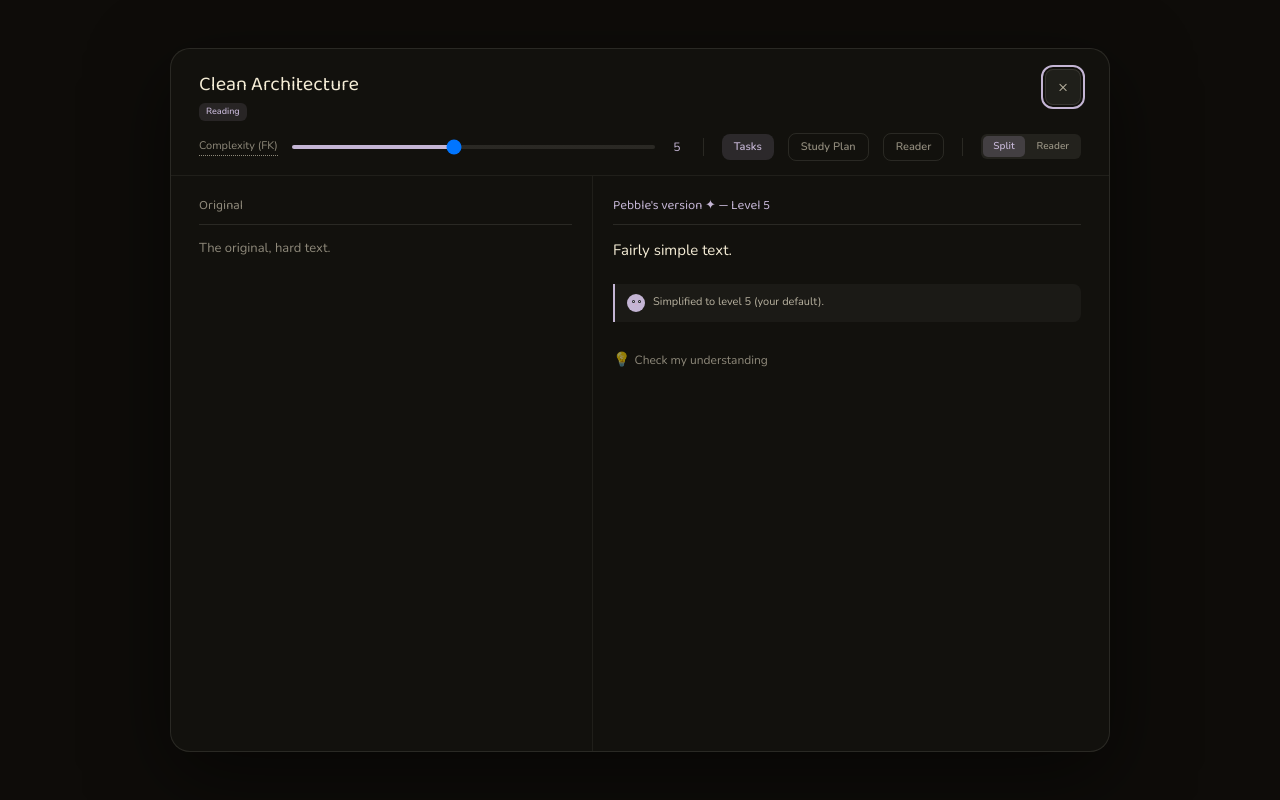
Scenario: DocumentModal › runs the comprehension check
Step 1. Click the button "💡 Check my understanding" → (690, 360), box [613, 338, 768, 382]
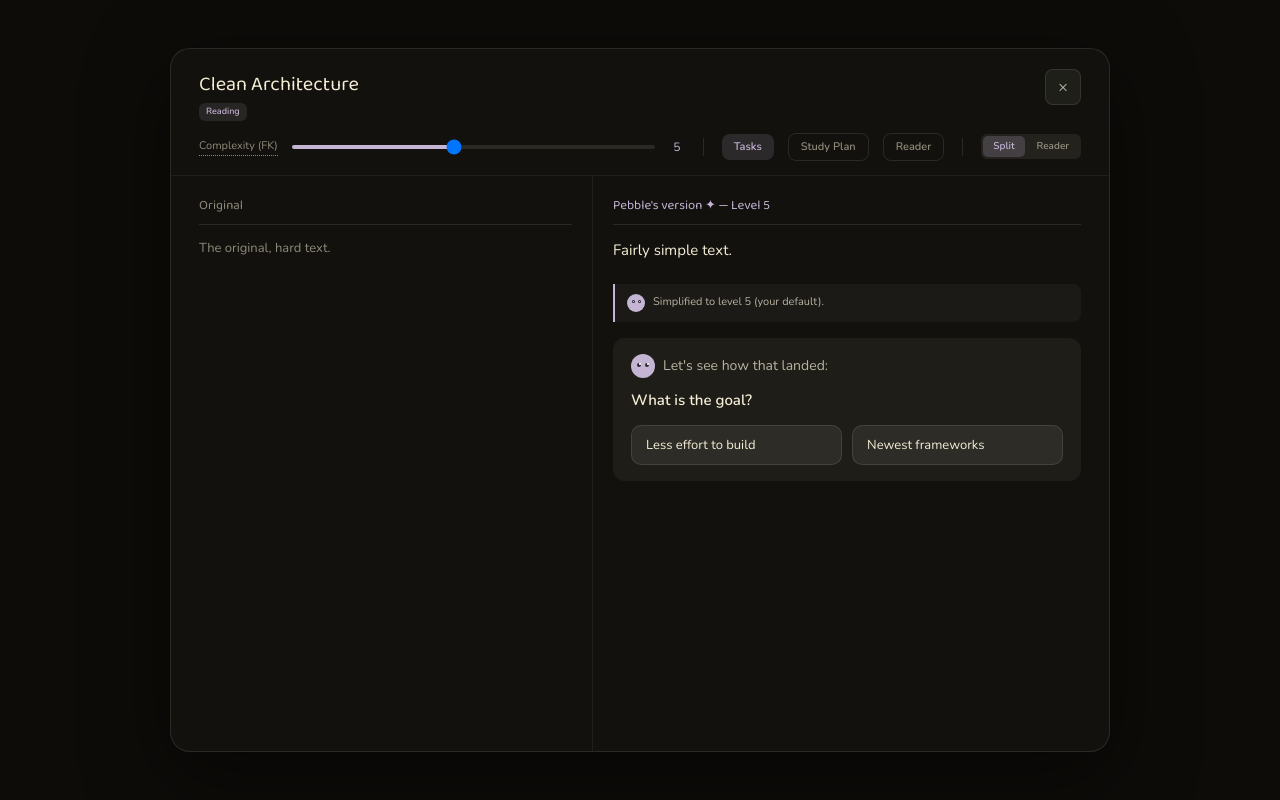
Step 2. Click the button "Less effort to build" → (737, 445), box [631, 424, 842, 465]
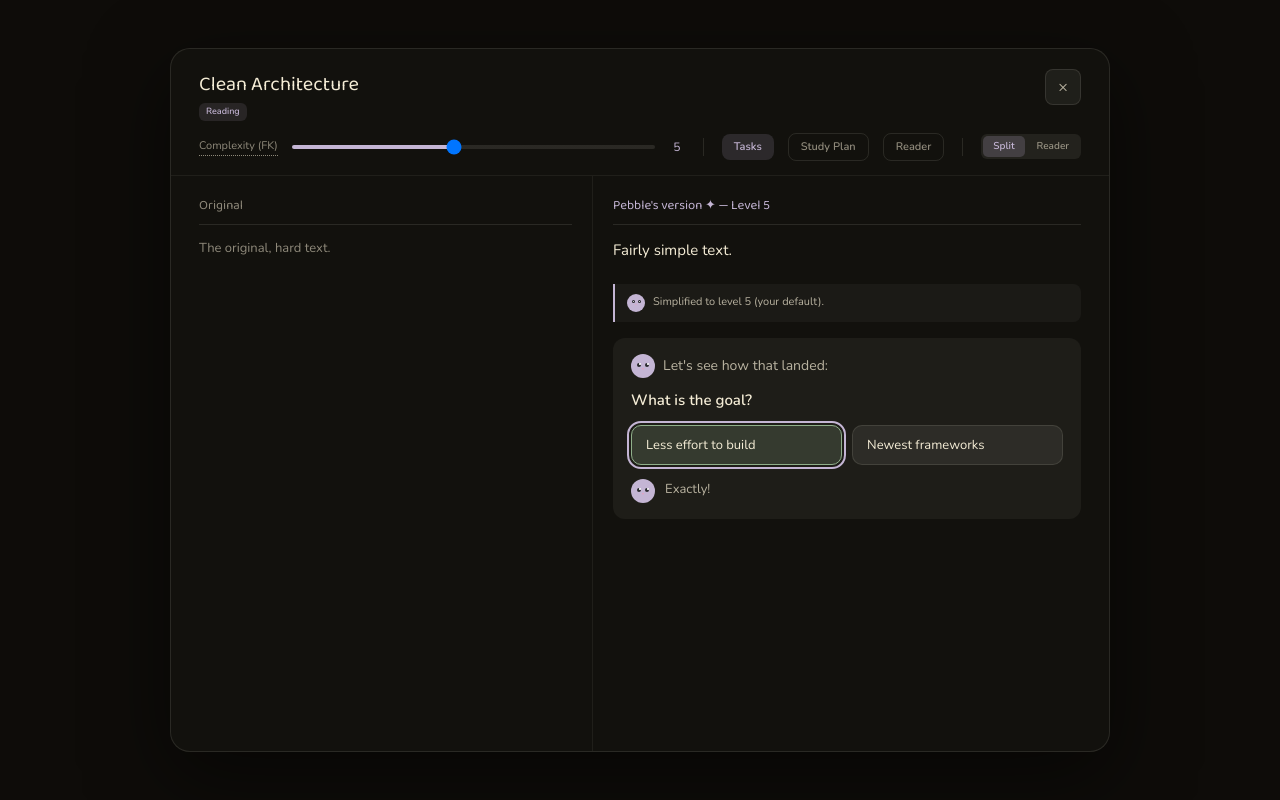
Expected: the message reads "Exactly!", [665, 480, 710, 498]
